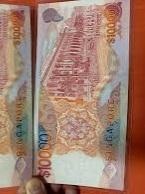10000SingaporeDollar: (38, 2, 125, 180)
